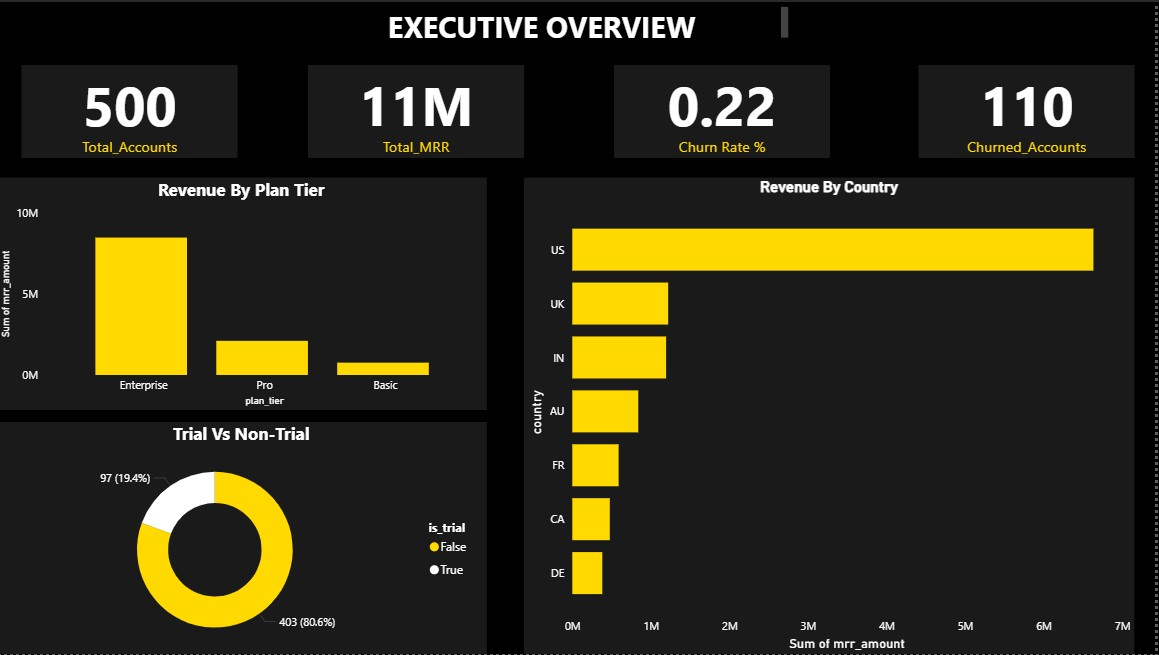

Layout of this report page (visuals, bound fields, positions):
{"tool":"powerbi","page":{"name":"Exective Overview","canvas":[1280,720],"ordinal":0},"visuals":[{"type":"textbox","box":[342.9,0,536.7,48],"z":0},{"type":"card","fields":{"Values":["public accounts.Total_Accounts"]},"box":[28.2,69.6,238.5,102.7],"z":1},{"type":"card","fields":{"Values":["public accounts.Total_MRR"]},"box":[344.5,69.6,238.5,102.7],"z":3},{"type":"card","fields":{"Values":["public accounts.Churned_Accounts"]},"box":[1018.7,69.6,238.5,102.7],"z":4},{"type":"columnChart","title":"Revenue By Plan Tier","fields":{"Category":["public subscriptions.plan_tier"],"Y":["Sum(public subscriptions.mrr_amount)"]},"box":[0,193.8,541.7,256.8],"z":5},{"type":"donutChart","title":"Trial Vs Non-Trial","fields":{"Category":["public accounts.is_trial"],"Y":["CountNonNull(public accounts.account_id)"]},"box":[0,463.8,541.7,256.8],"z":6},{"type":"clusteredBarChart","title":"Revenue By Country ","fields":{"Category":["public accounts.country"],"Y":["Sum(public subscriptions.mrr_amount)"]},"box":[583.1,193.8,674.2,526.8],"z":7},{"type":"card","fields":{"Values":["public accounts.Churn Rate %"]},"box":[682.5,69.6,238.5,102.7],"z":8}]}

Visuals, with their boxes in screenshot pixels (x1, y1, x2, y2), scaled from the page's 1280x720 canvas onto the 1159x655 screenshot:
textbox: region(310, 0, 796, 44)
card - public accounts.Total_Accounts: region(26, 63, 241, 157)
card - public accounts.Total_MRR: region(312, 63, 528, 157)
card - public accounts.Churned_Accounts: region(922, 63, 1138, 157)
"Revenue By Plan Tier" columnChart: region(0, 176, 490, 410)
"Trial Vs Non-Trial" donutChart: region(0, 422, 490, 654)
"Revenue By Country " clusteredBarChart: region(528, 176, 1138, 654)
card - public accounts.Churn Rate %: region(618, 63, 834, 157)
